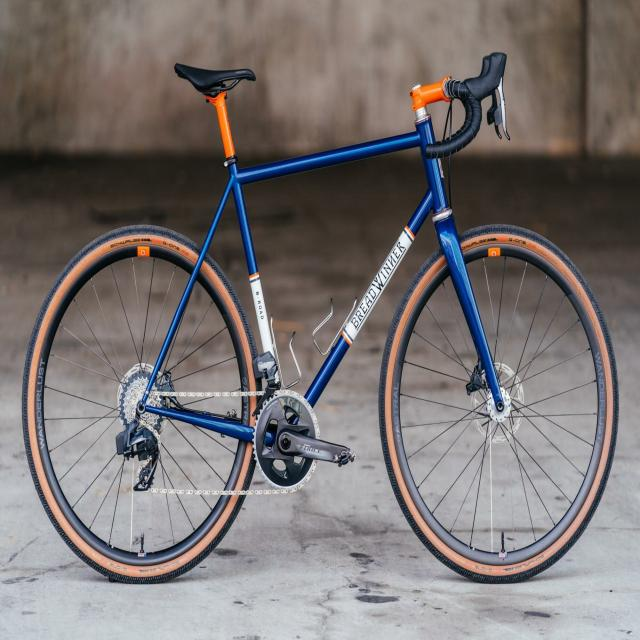road-bike: (21, 50, 620, 587)
